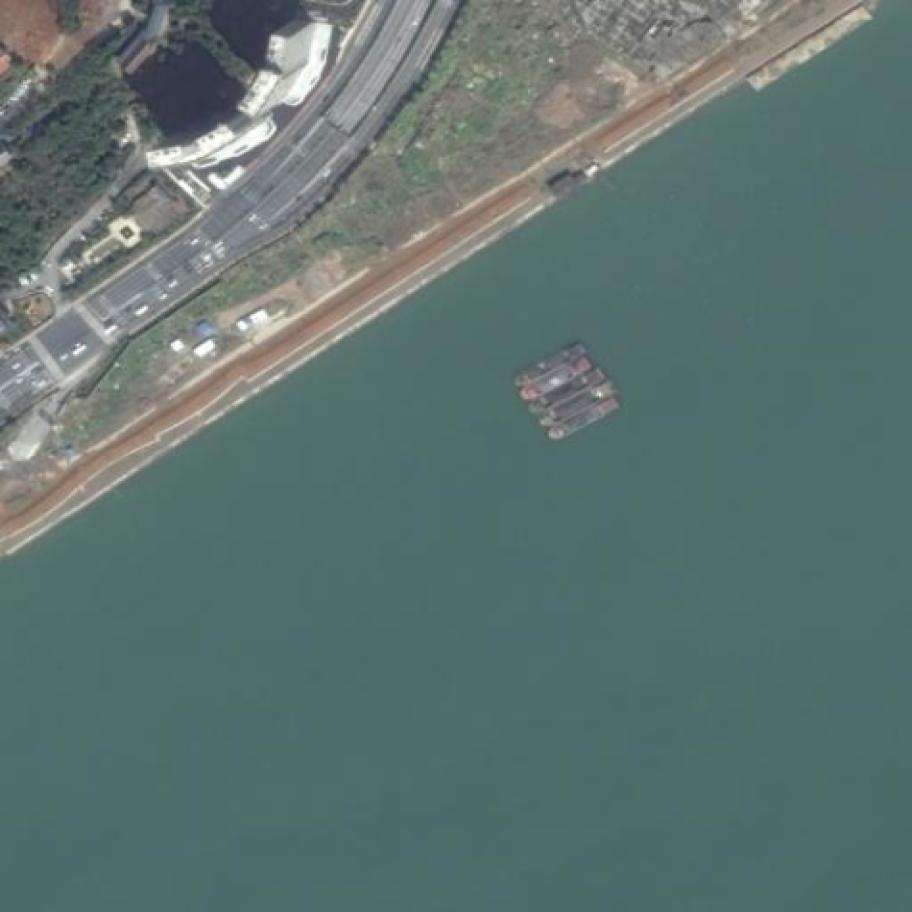ship: (541, 380, 618, 430), (532, 365, 609, 415), (516, 339, 588, 388), (549, 395, 624, 442), (522, 356, 592, 402)
